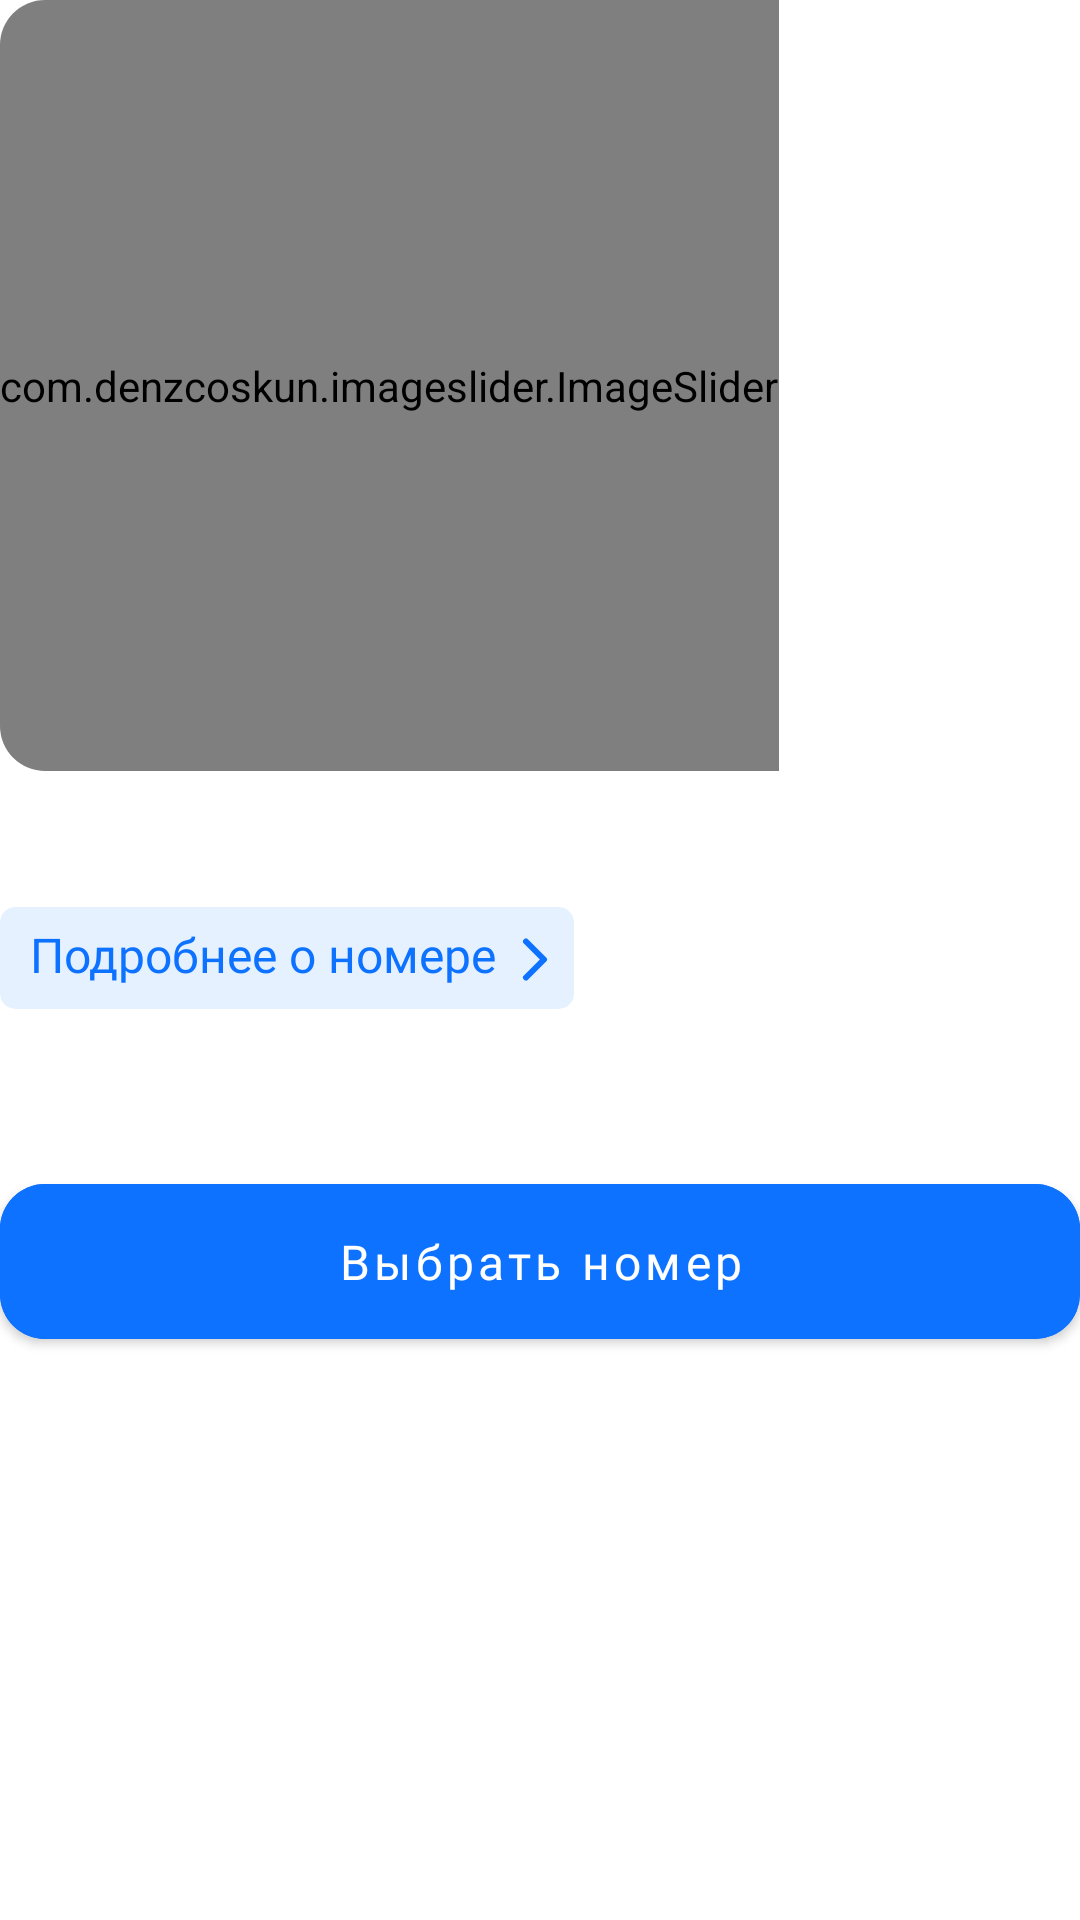

Icon click points for this 1080w x 1920h phone screenshot, format point (x, y):
arrow room item: point (535, 959)
